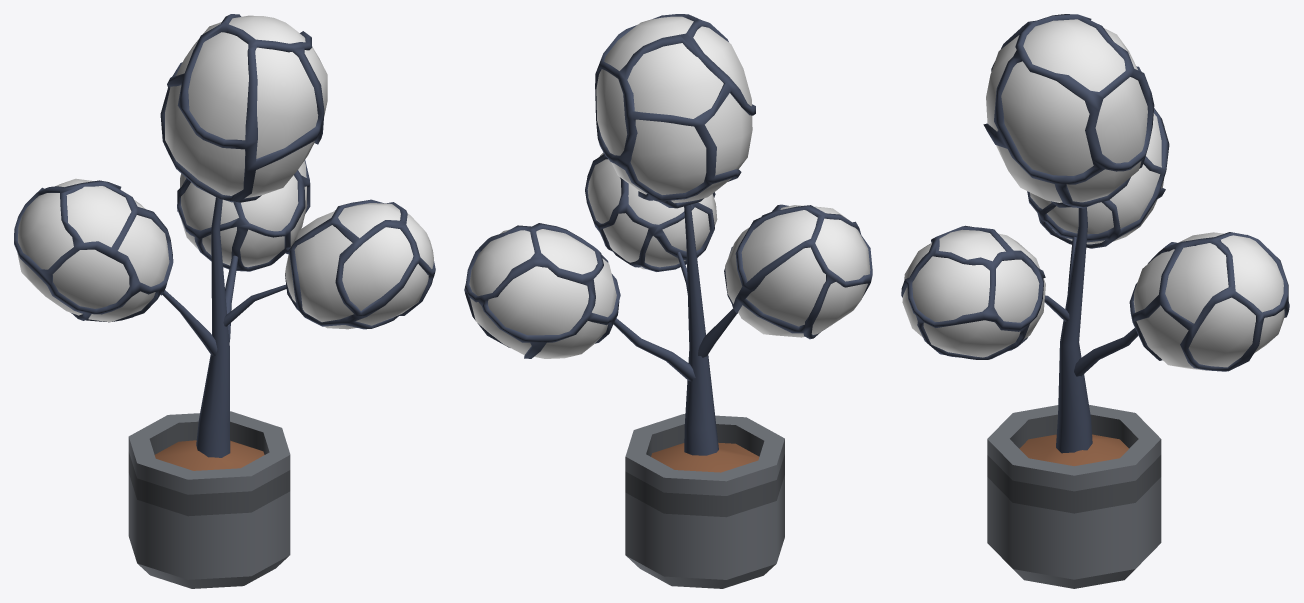
File: Plant9.fbx
3 views of the same model, side by side, from view 1: azimuth 30°, elevation 25°; view 2: azimuth 150°, elevation 25°; view 3: azimuth 270°, elevation 25° (orthographic). The views are drawn at different scales.
Visible parts, largest first — view 1: Plant9; view 2: Plant9; view 3: Plant9.
Part boxes in pixels (left/top/right/bottom): Plant9: left=14, top=14, right=435, bottom=588; Plant9: left=464, top=14, right=872, bottom=588; Plant9: left=901, top=14, right=1289, bottom=588.
Bounding box in the file's own units: 0.8993 × 1.34 × 0.8547.
